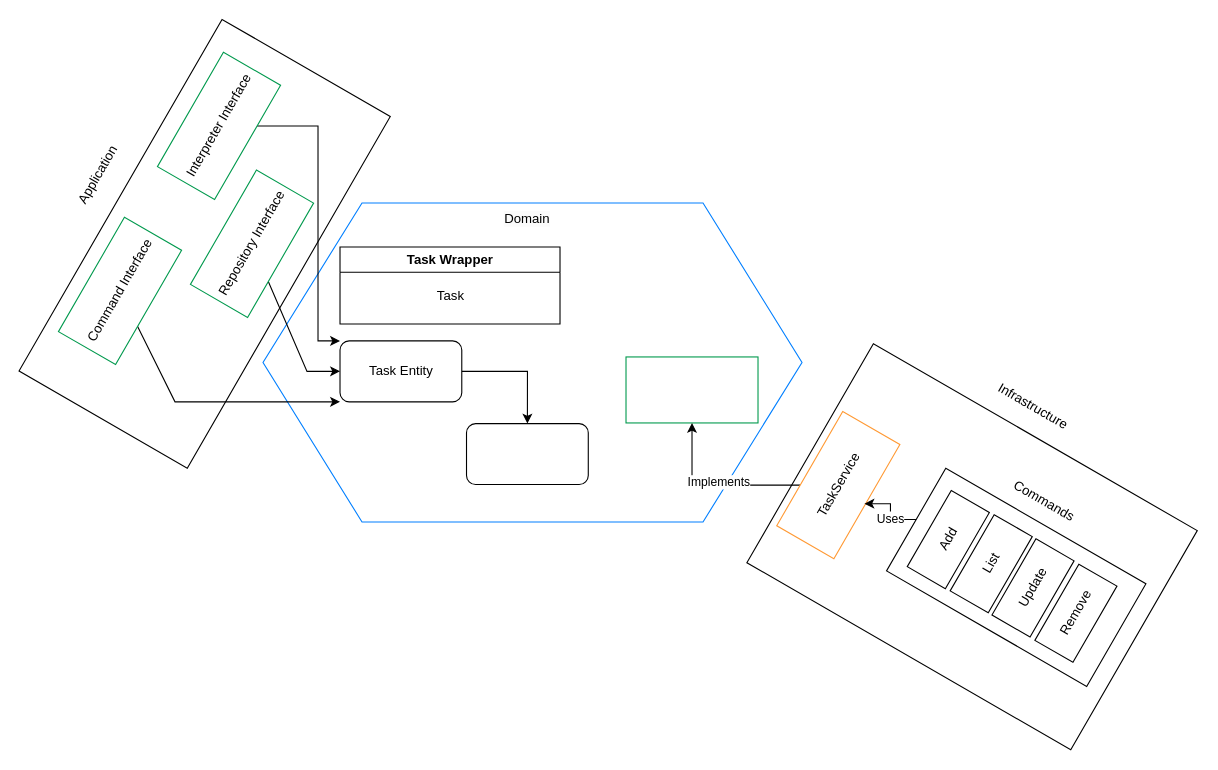
This 1218x770 diagram has some shape labels left out. Each missing label, with the centre of its shape:
Task Builder: the point at 526,454
TaskService Interface: the point at 691,389
